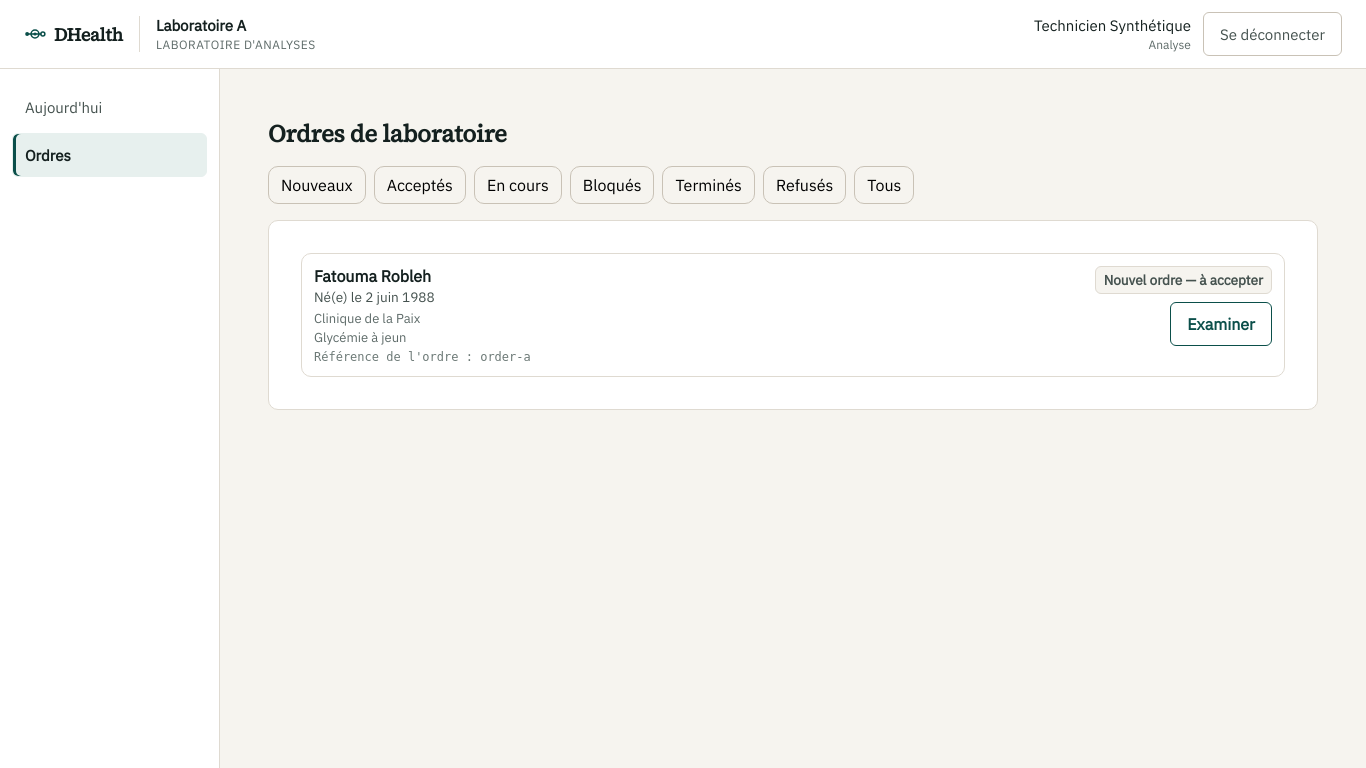
Scenario: LabOrdersPage › A8: an accept response whose order_id disagrees fails closed
Click the button "Examiner" at (1221, 324), box [1170,302,1272,346]
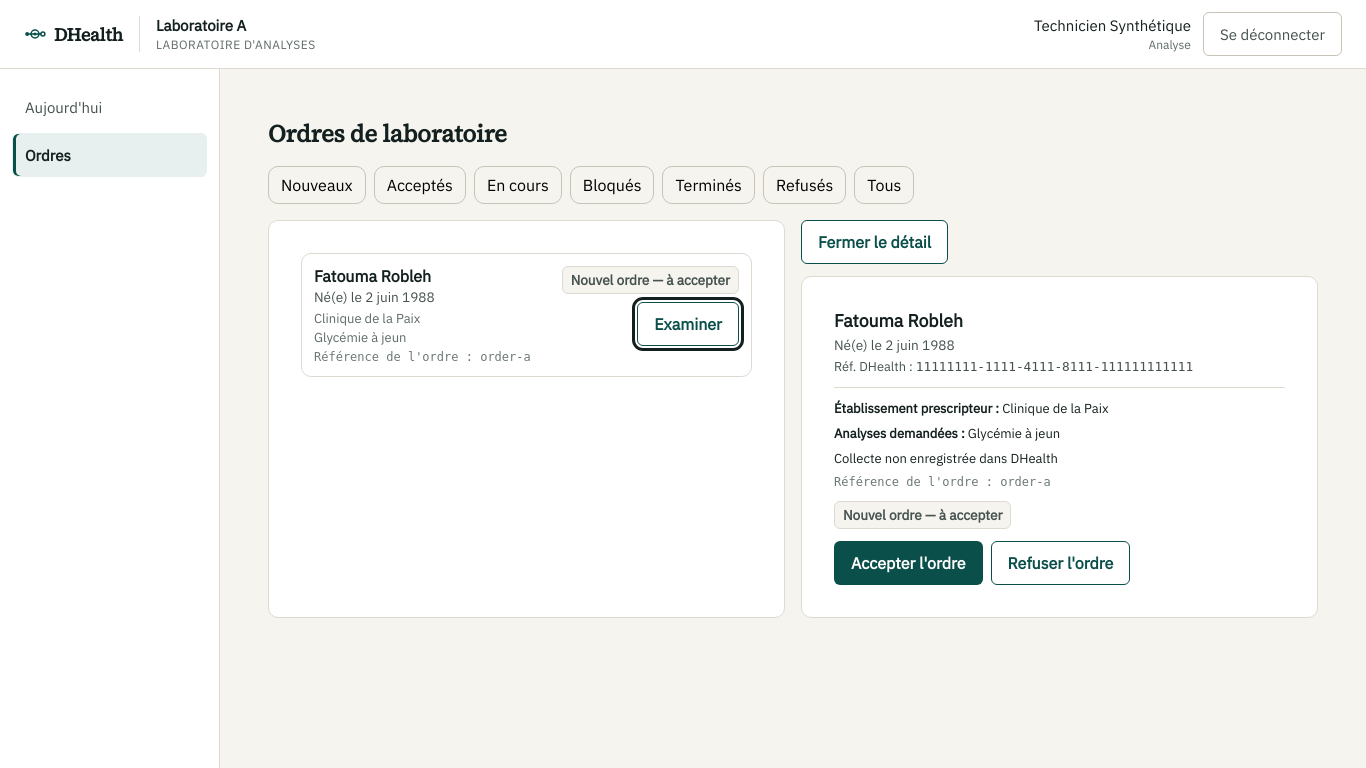
Click the button "Accepter l'ordre" at (908, 563), box [834,541,983,585]
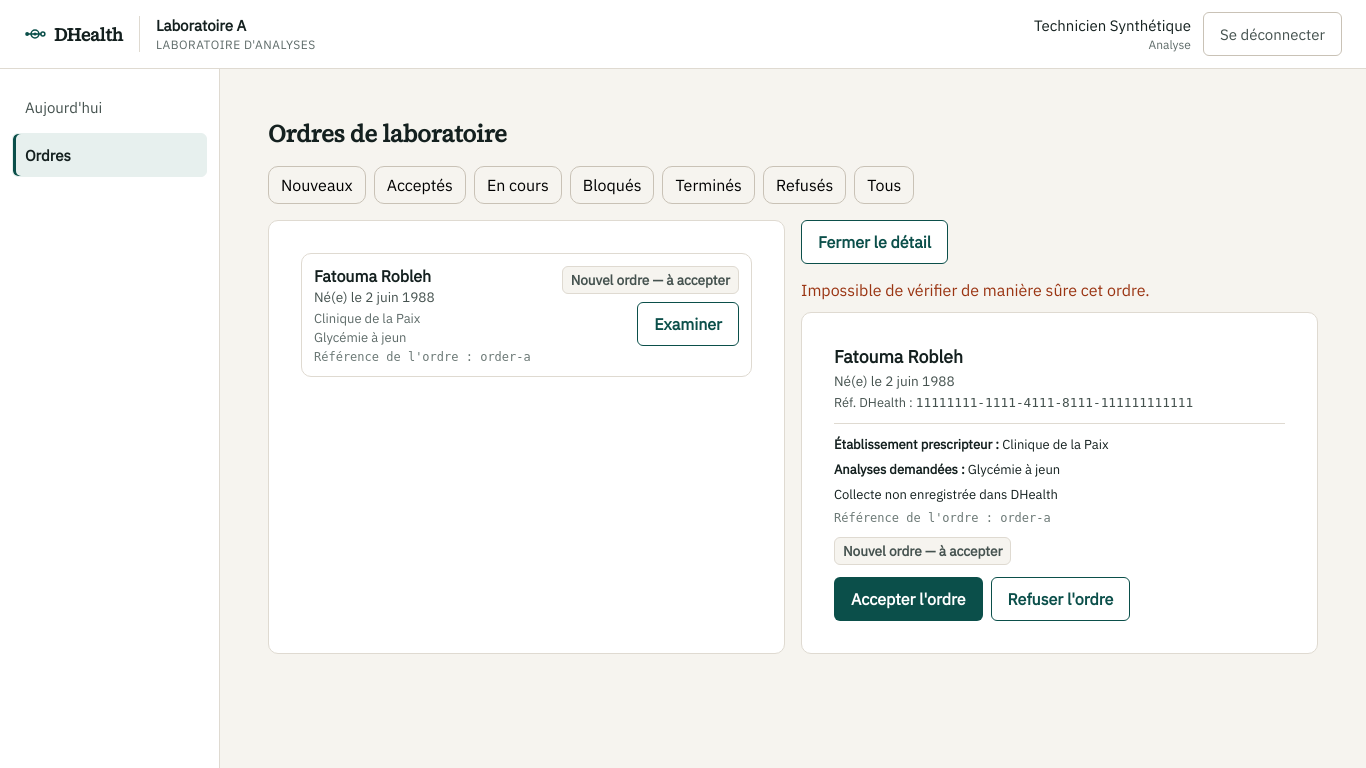
Check: the text "Impossible de vérifier de manière sûre cet ordre." is shown, box [801,280,1150,300]
